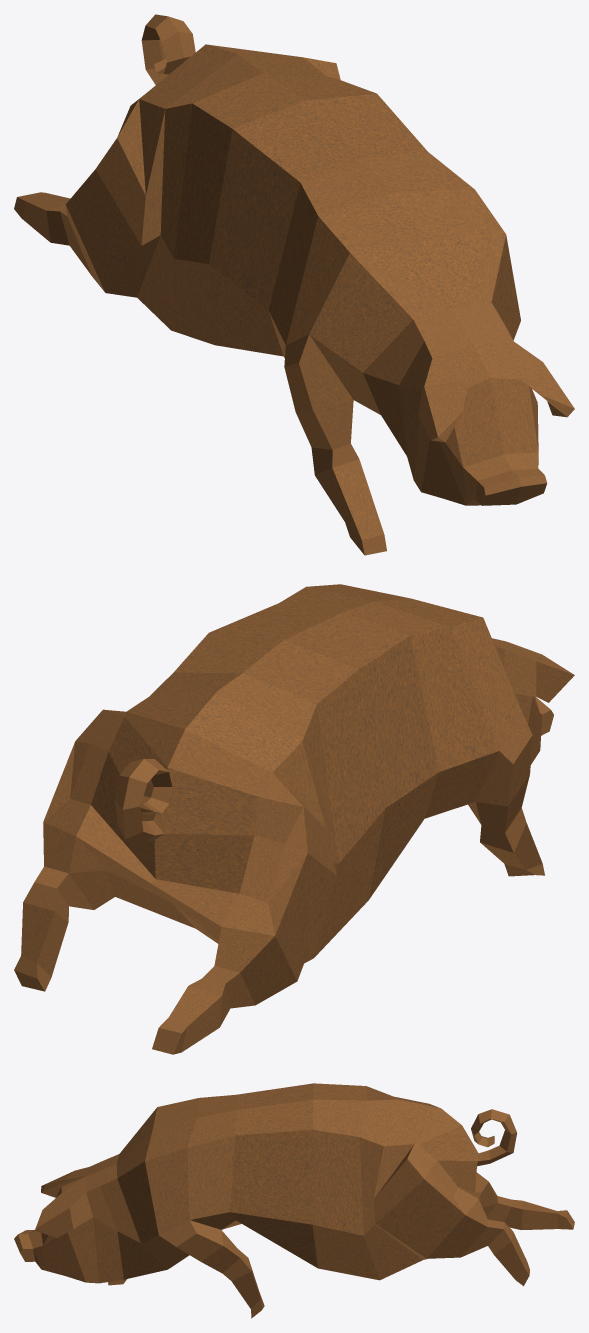
Rendered from Pig_000019.obj.
3 views of the same model, one above another, from view 1: azimuth 30°, elevation 25°; view 2: azimuth 150°, elevation 25°; view 3: azimuth 270°, elevation 25° (orthographic). The views are drawn at different scales.
Parts seen in each view (by area): view 1: Pig_Cylinder; view 2: Pig_Cylinder; view 3: Pig_Cylinder.
Boxes of the visible parts, bbox=[...] form: Pig_Cylinder: bbox=[14, 14, 574, 555]; Pig_Cylinder: bbox=[14, 584, 574, 1054]; Pig_Cylinder: bbox=[14, 1083, 574, 1318].
Size of the model in its own units: 3.4 by 4.32 by 10.48.
Materials: 1 (1 with a texture image).
